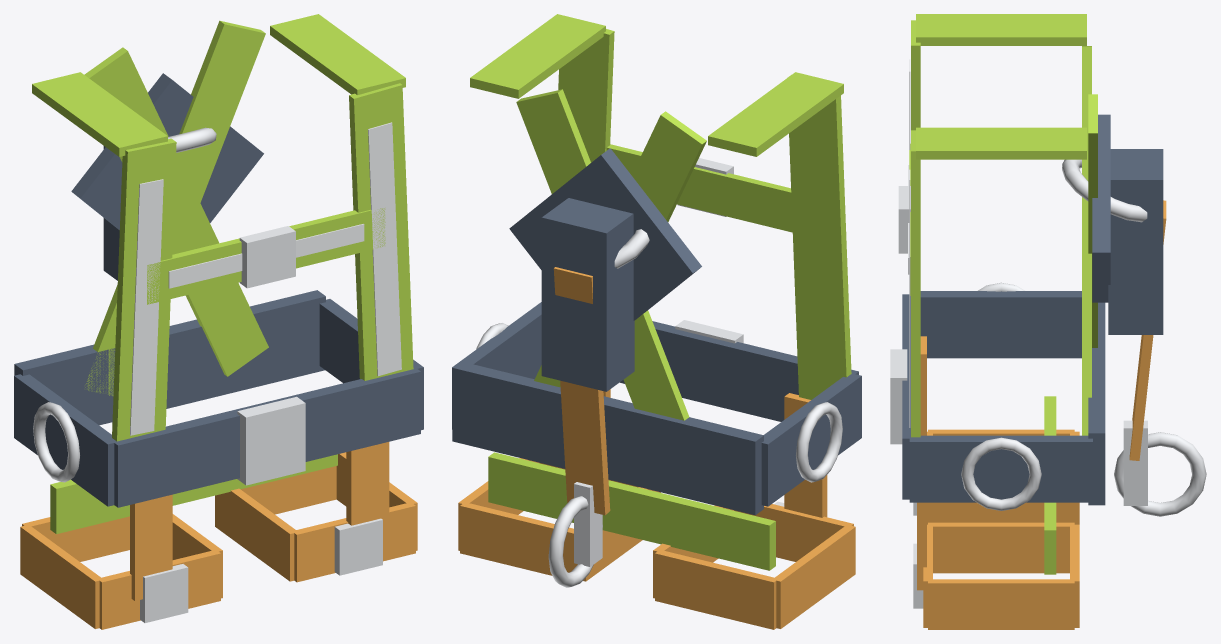
Rendered from safety_harness.glb.
The picture shows the model from 3 angles, left to right: view 1: azimuth 30°, elevation 25°; view 2: azimuth 150°, elevation 25°; view 3: azimuth 270°, elevation 25°; orthographic projection. The views are drawn at different scales.
Parts seen in each view (by area): view 1: FullBodySafetyHarness; view 2: FullBodySafetyHarness; view 3: FullBodySafetyHarness.
Part boxes in pixels (bbox=[...]): FullBodySafetyHarness: bbox=[14, 14, 423, 629]; FullBodySafetyHarness: bbox=[452, 14, 861, 629]; FullBodySafetyHarness: bbox=[890, 14, 1206, 629].
Size of the model in its own units: 0.31 by 0.4357 by 0.259.
